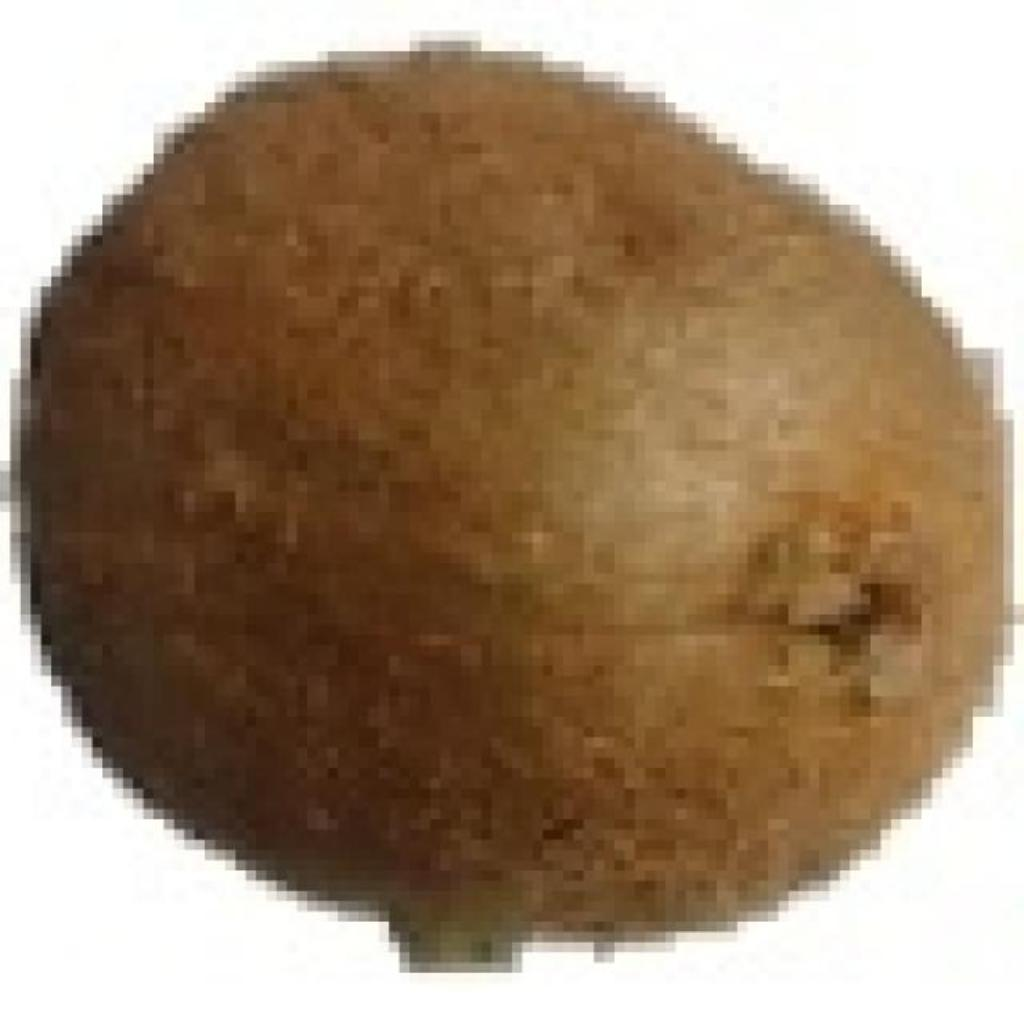kiwi: (41, 41, 1014, 942)
